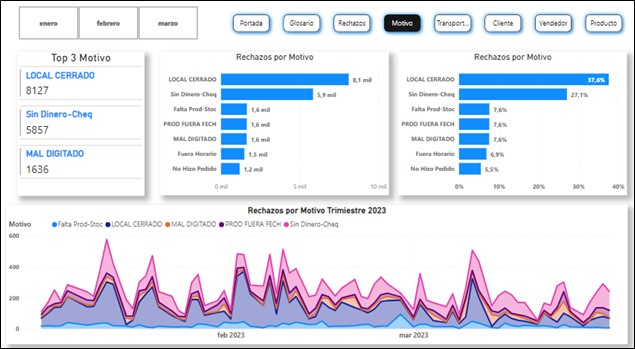

What the dashboard file says about the page in this screenshot:
{"tool":"powerbi","page":{"name":"Motivo","canvas":[1280,720],"ordinal":3},"visuals":[{"type":"barChart","title":"Rechazos por Motivo         ","fields":{"Category":["Rechazos.Motivo         "],"Y":["CountNonNull(Rechazos.ID_Rechazo)"]},"box":[328.3,118.1,459.4,288],"z":0},{"type":"slicer","fields":{"Values":["Tabla Calendario.Mes"]},"box":[18.7,21.6,407.5,79.2],"z":1000},{"type":"pageNavigator","box":[465.1,34.6,800.6,53.3],"z":2000},{"type":"barChart","title":"Rechazos por Motivo         ","fields":{"Category":["Rechazos.Motivo         "],"Y":["CountNonNull(Rechazos.ID_Rechazo)"]},"box":[806.4,118.1,459.4,288],"z":3000},{"type":"stackedAreaChart","title":"Rechazos por Motivo Trimiestre 2023        ","fields":{"Category":["Rechazos.Fecha"],"Series":["Rechazos.Motivo         "],"Y":["CountNonNull(Rechazos.ID_Rechazo)"]},"box":[18.7,424.8,1247,279.4],"z":4000},{"type":"multiRowCard","title":"Top 3 Motivo         ","fields":{"Values":["Rechazos.Motivo         ","CountNonNull(Rechazos.ID_Rechazo)"]},"box":[41.9,117.4,255,288.5],"z":5000}]}

Visuals, with their boxes in screenshot pixels (x1, y1, x2, y2), scaled from the page's 1280x720 canvas onto the 635x349 screenshot:
"Rechazos por Motivo         " barChart: box(163, 57, 391, 197)
slicer - Tabla Calendario.Mes: box(9, 10, 211, 49)
pageNavigator: box(231, 17, 628, 43)
"Rechazos por Motivo         " barChart: box(400, 57, 628, 197)
"Rechazos por Motivo Trimiestre 2023        " stackedAreaChart: box(9, 206, 628, 341)
"Top 3 Motivo         " multiRowCard: box(21, 57, 147, 197)
